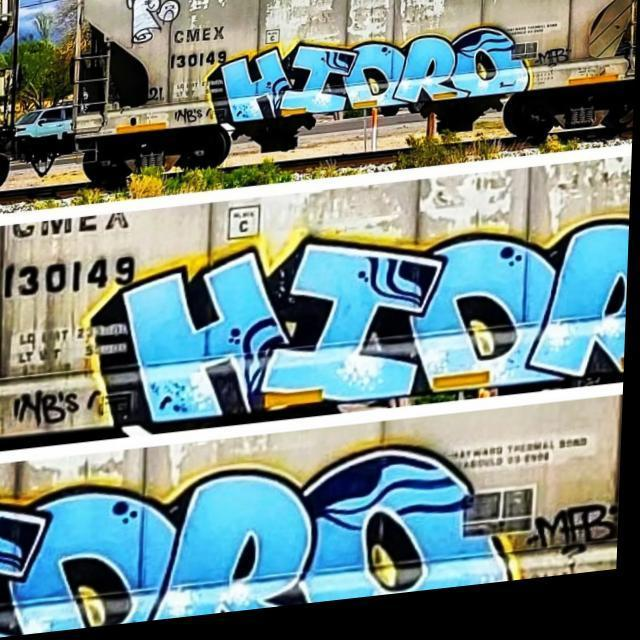-: (75, 226, 632, 447), (0, 439, 522, 640), (192, 24, 544, 152), (0, 207, 173, 311), (526, 491, 624, 586), (160, 23, 231, 76), (120, 0, 184, 57)
